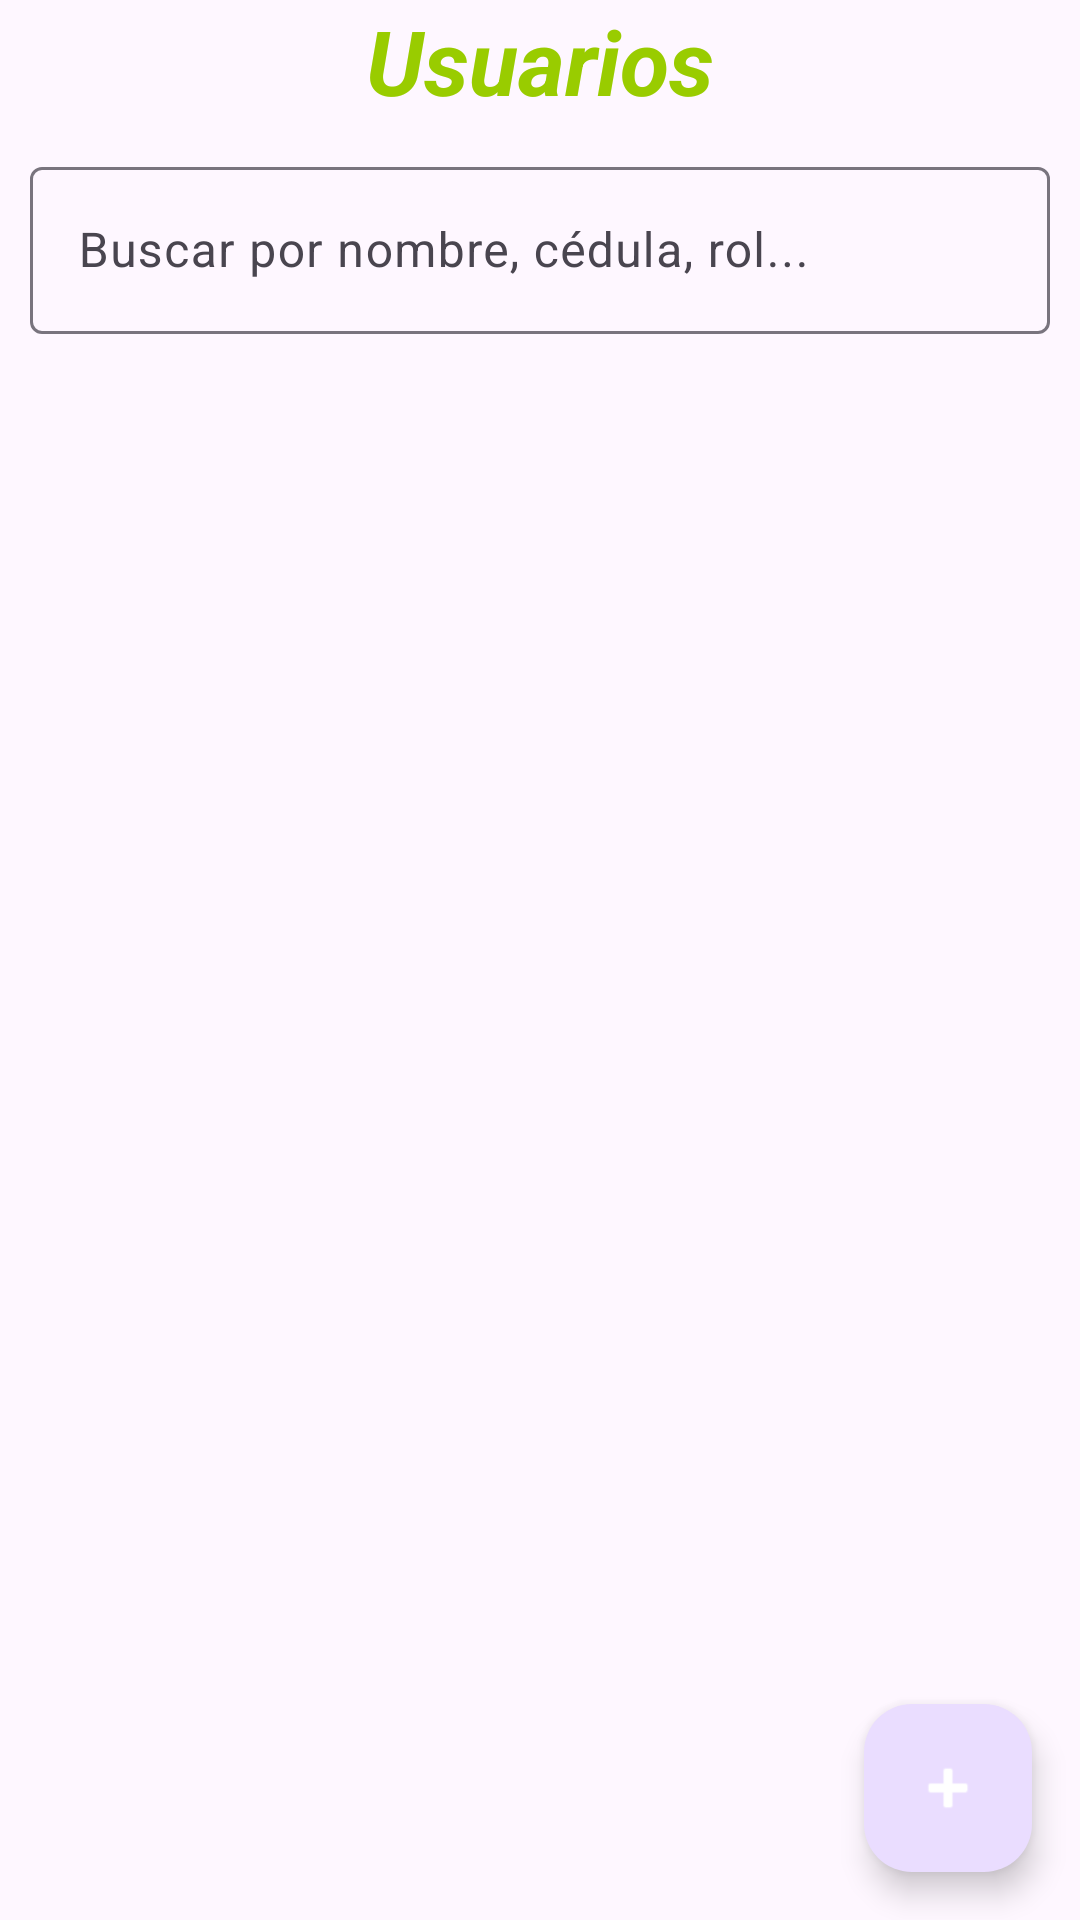

Named icons in this screenshot (1080 x 1920) and their centers, (x,y):
Agregar Usuario: (948,1788)
